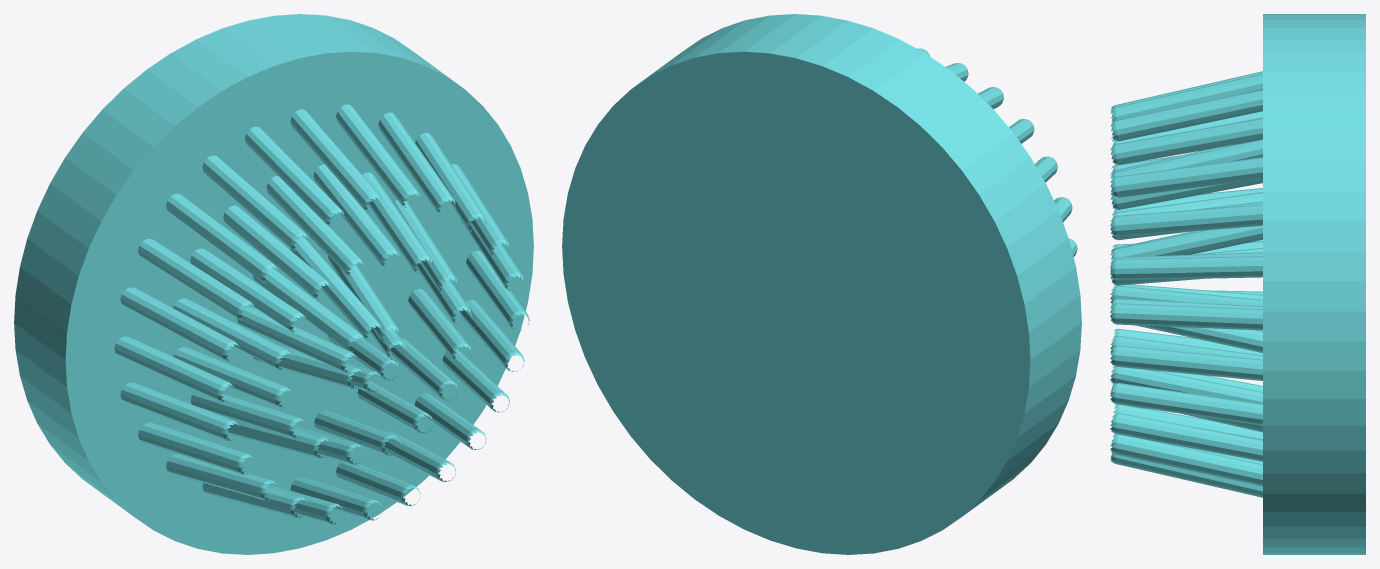
Rendered from dranmar_brush.glb.
3 renders of one model, left to right at view 1: azimuth 30°, elevation 25°; view 2: azimuth 150°, elevation 25°; view 3: azimuth 270°, elevation 25°, orthographic.
Visible parts, largest first — view 1: brush; view 2: brush; view 3: brush.
Part boxes in pixels (<box>): brush: <box>14,14,533,554</box>; brush: <box>562,14,1081,554</box>; brush: <box>1110,14,1365,554</box>.
Size of the model in its own units: 0.021 by 0.021 by 0.00993.
